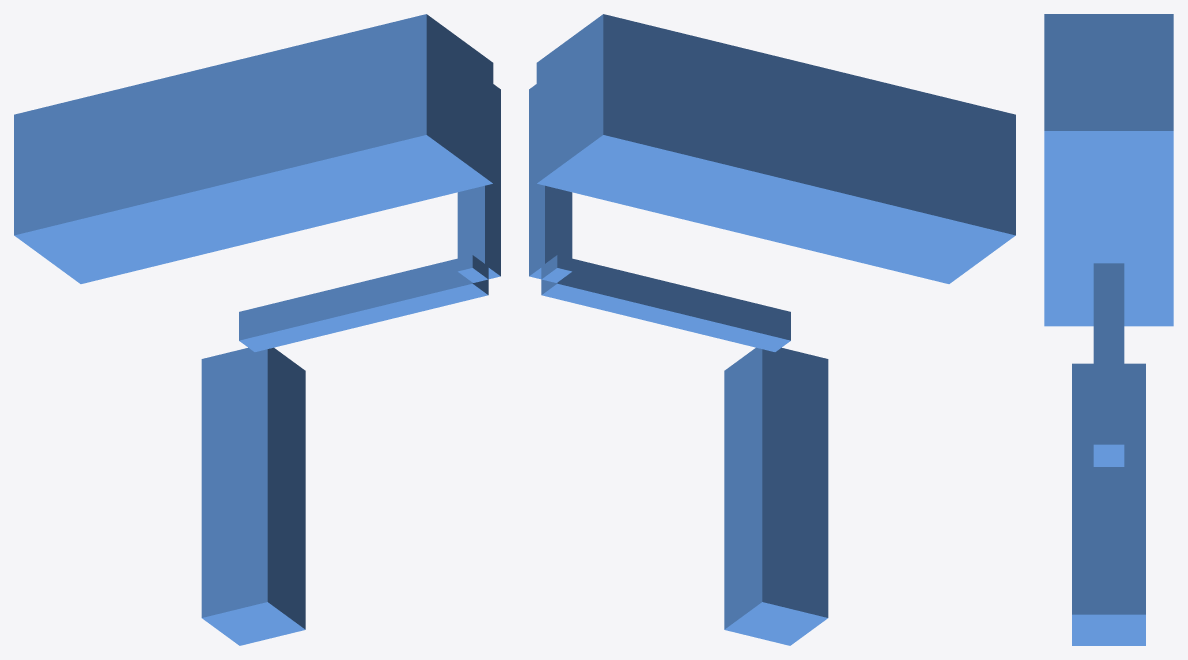
File: decorating_paint_roller.gltf
3 views of the same model, side by side, from view 1: azimuth 30°, elevation 25°; view 2: azimuth 150°, elevation 25°; view 3: azimuth 270°, elevation 25° (orthographic). The views are drawn at different scales.
Parts seen in each view (by area): view 1: decorating_paint_roller; view 2: decorating_paint_roller; view 3: decorating_paint_roller.
Boxes of the visible parts, <box> form: decorating_paint_roller: <box>14,14,500,645</box>; decorating_paint_roller: <box>529,14,1015,645</box>; decorating_paint_roller: <box>1044,14,1173,645</box>.
Size of the model in its own units: 1.62 by 1.86 by 0.42.
